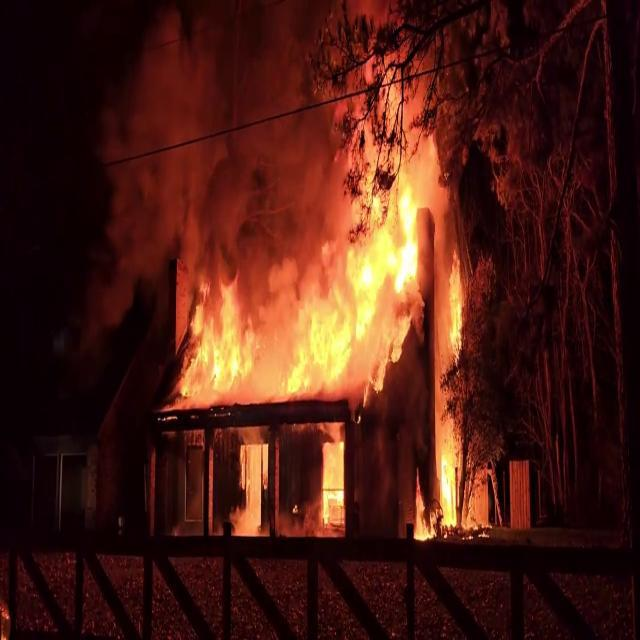Fire: (166, 178, 472, 428)
Smoke: (76, 0, 337, 246)
